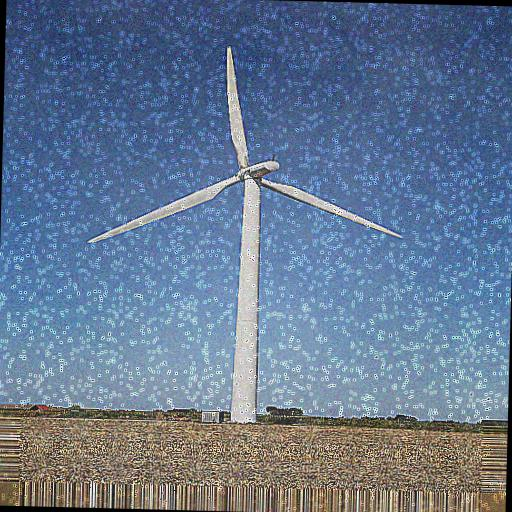wind turbine: (86, 46, 408, 423)
